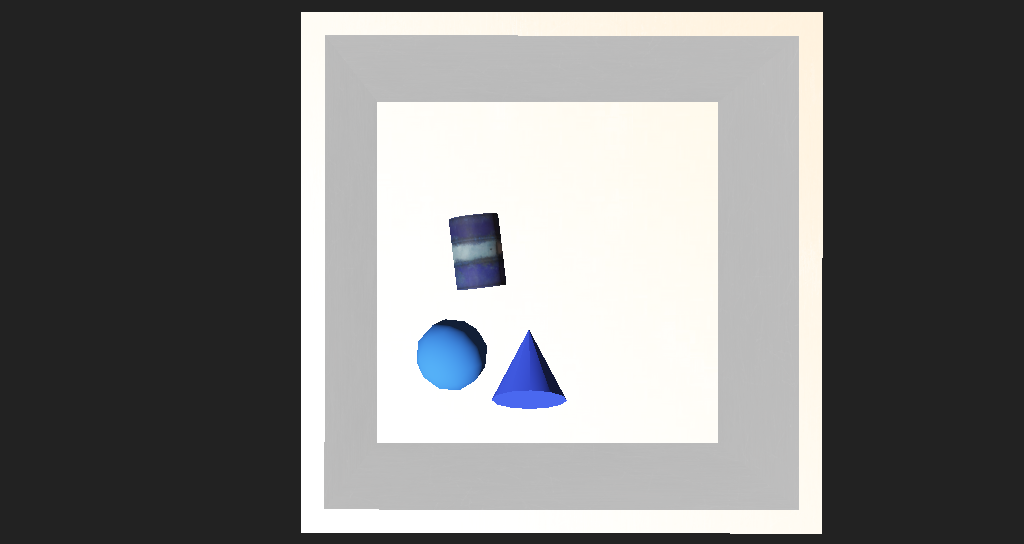cone: (414, 229, 475, 277)
cylinder: (451, 291, 519, 358)
sphere: (384, 298, 451, 341)
